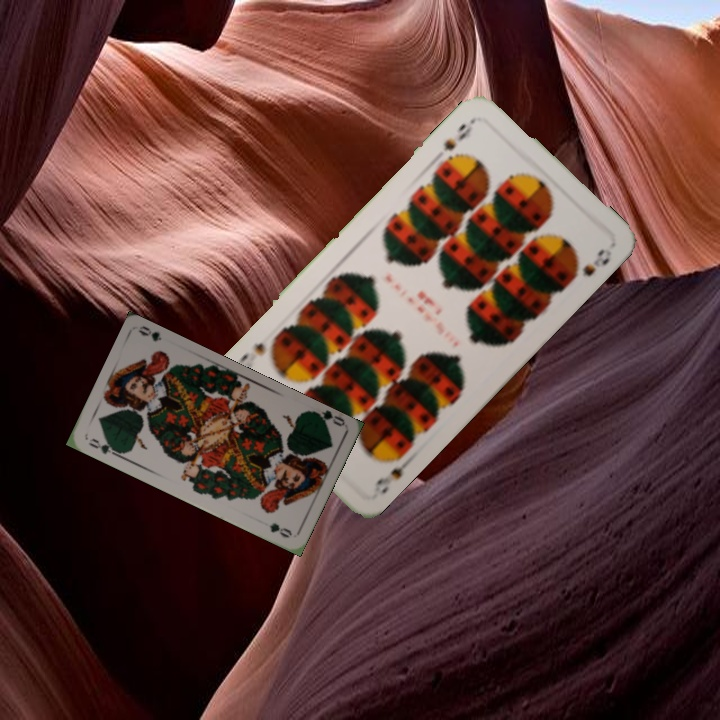GO: (307, 407, 347, 431), (84, 434, 122, 459)
S9: (369, 448, 416, 497), (439, 113, 479, 155)
